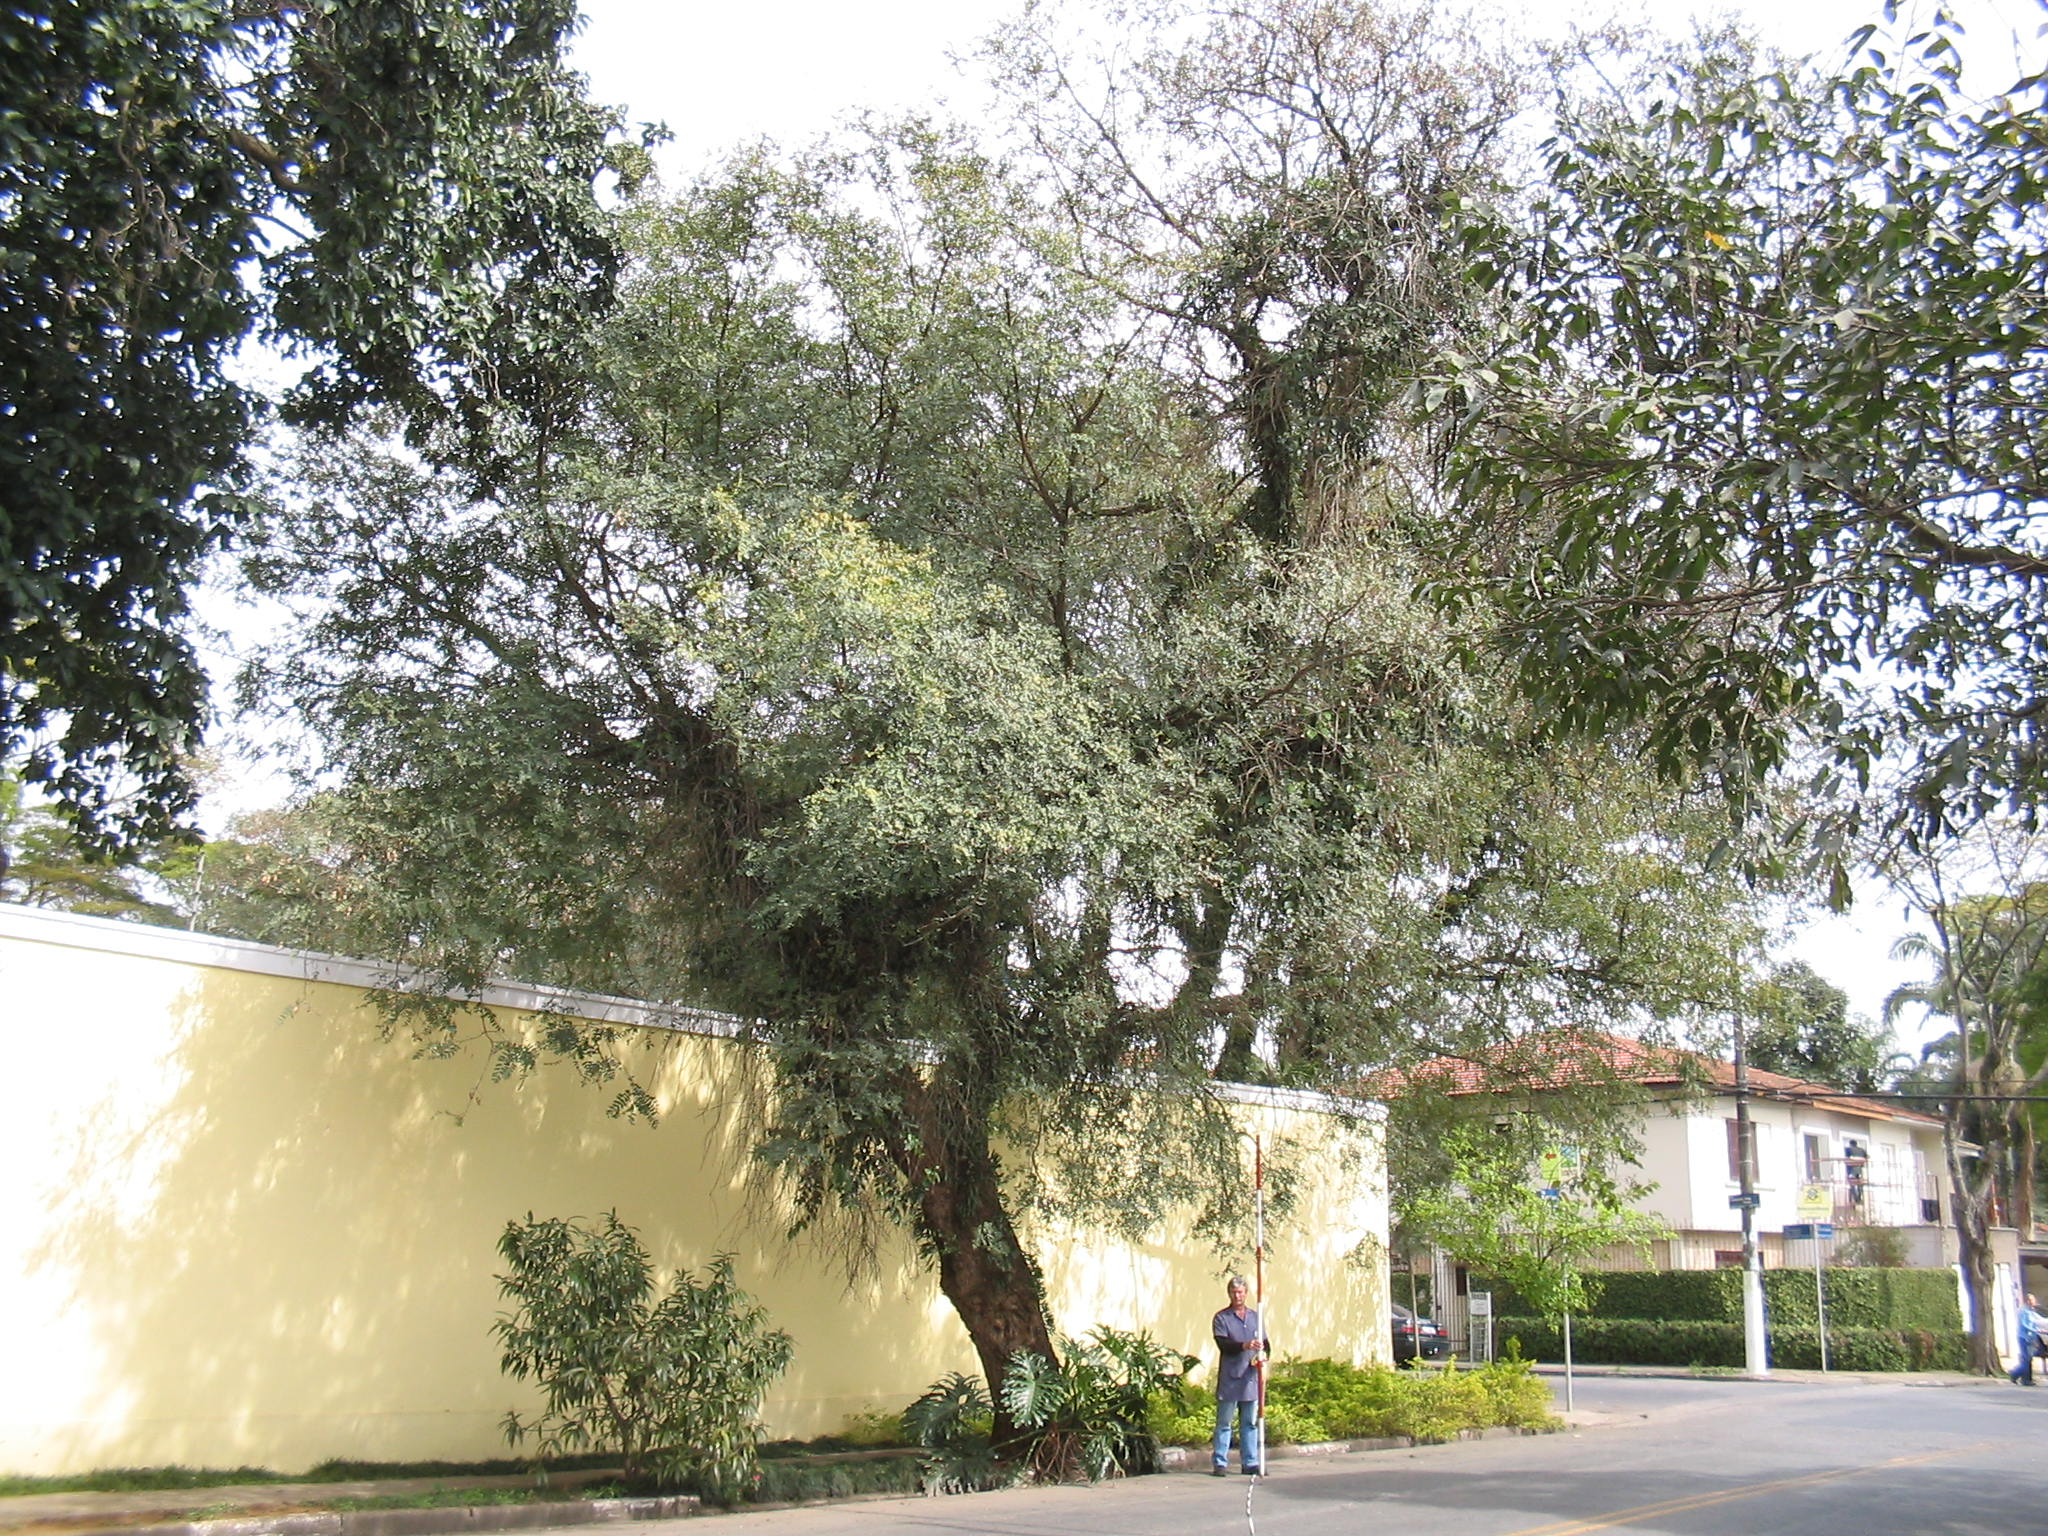crown: (242, 119, 1480, 1137)
stem: (898, 1163, 1100, 1463)
stick: (1240, 1139, 1282, 1473)
tree: (239, 116, 1484, 1465)
